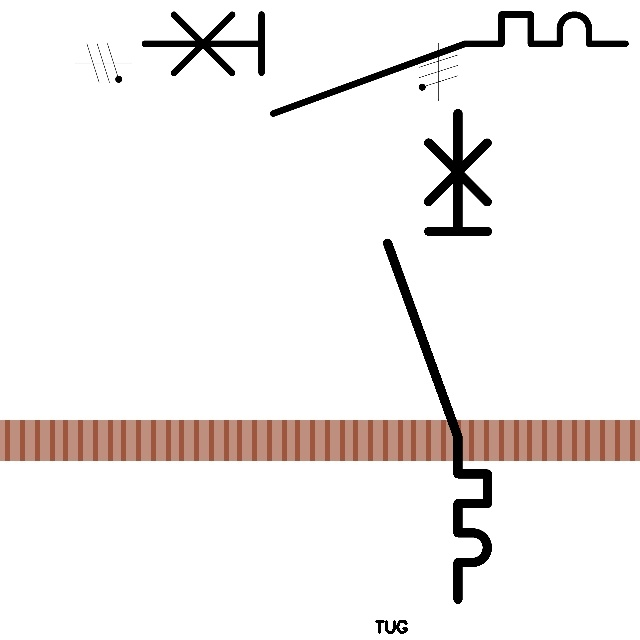interruptor_termomagnetico: (375, 100, 500, 611), (132, 2, 637, 125)
